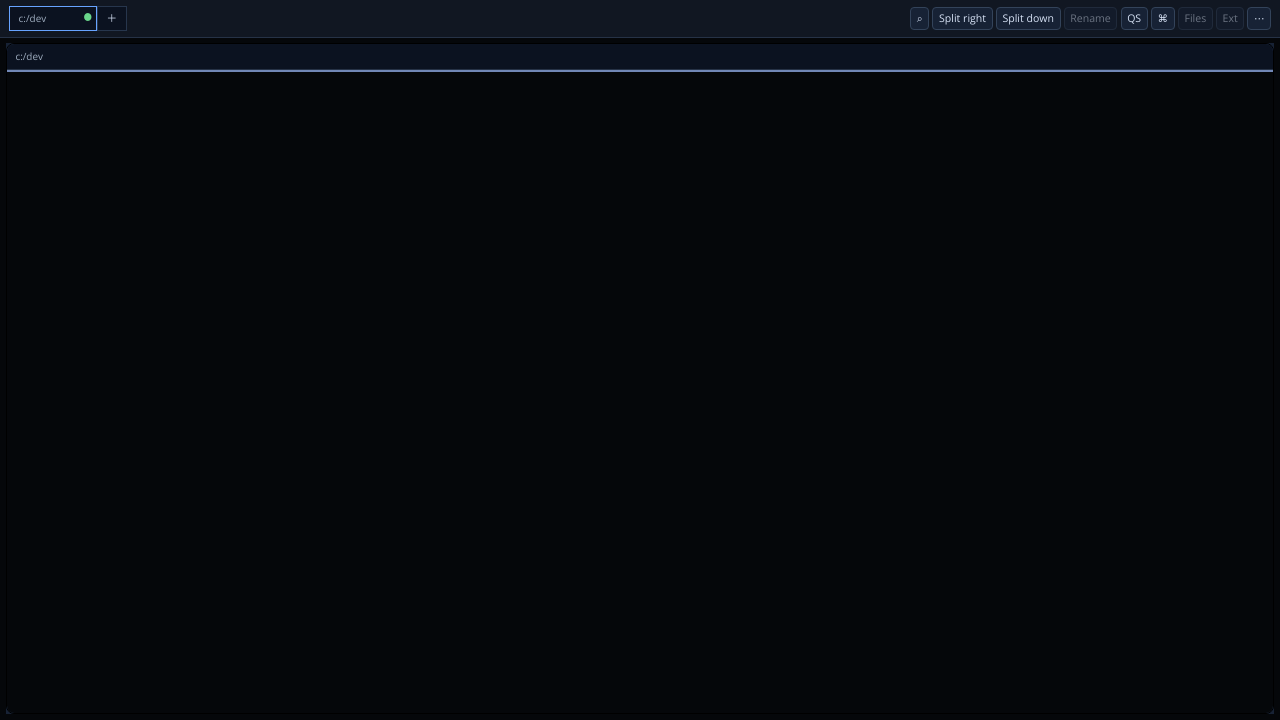
Test: persistent terminal terminal-state notices › keeps Restart replacement live after stale Stop confirmed settlement
Click the button named "Open terminal actions menu".
click(1259, 18)  # box x1=1248 y1=7 x2=1271 y2=30
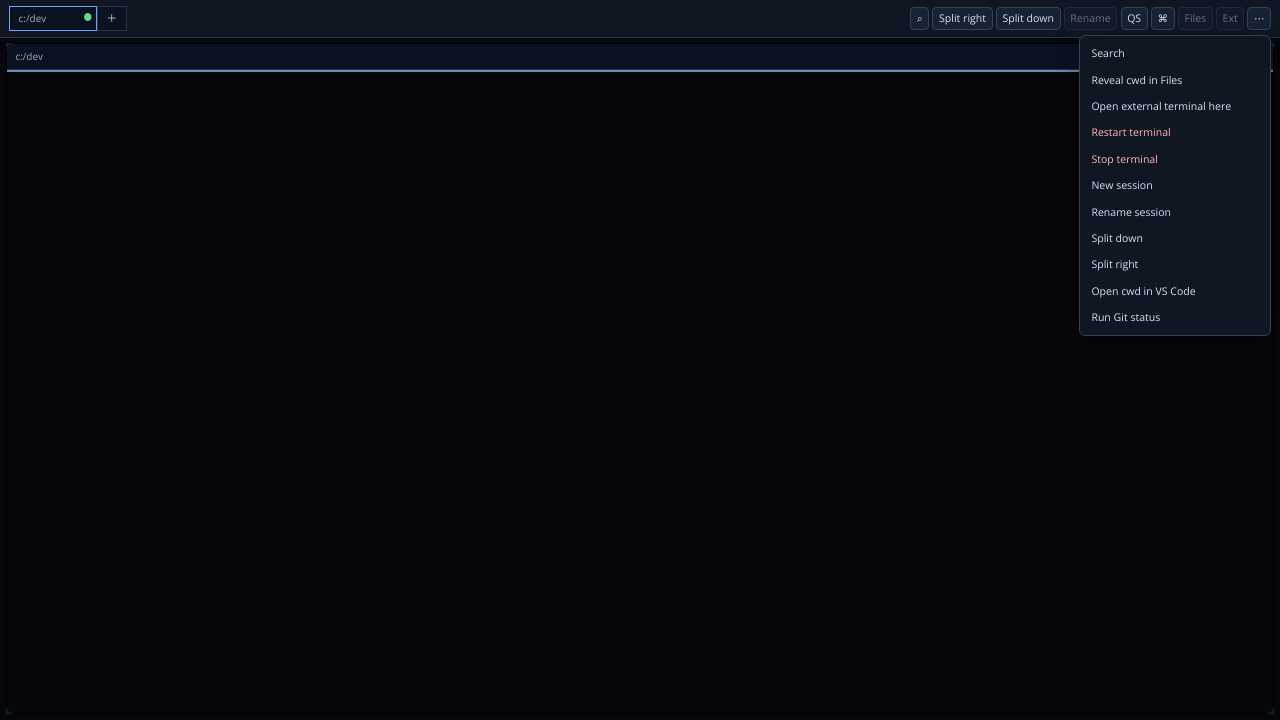
Click the menu item "Stop terminal".
click(1175, 159)  # box x1=1086 y1=148 x2=1265 y2=171
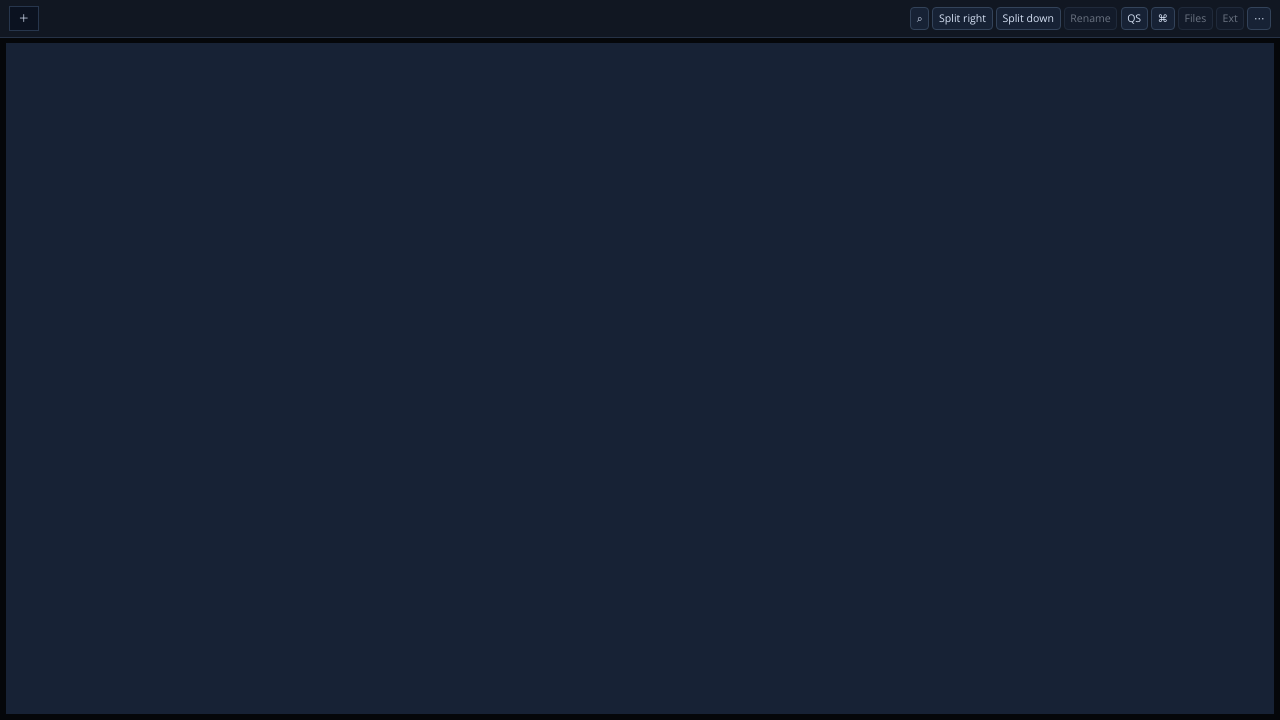
Result: no tabs are shown
Click the button named "Open terminal actions menu".
click(1259, 18)  # box x1=1248 y1=7 x2=1271 y2=30
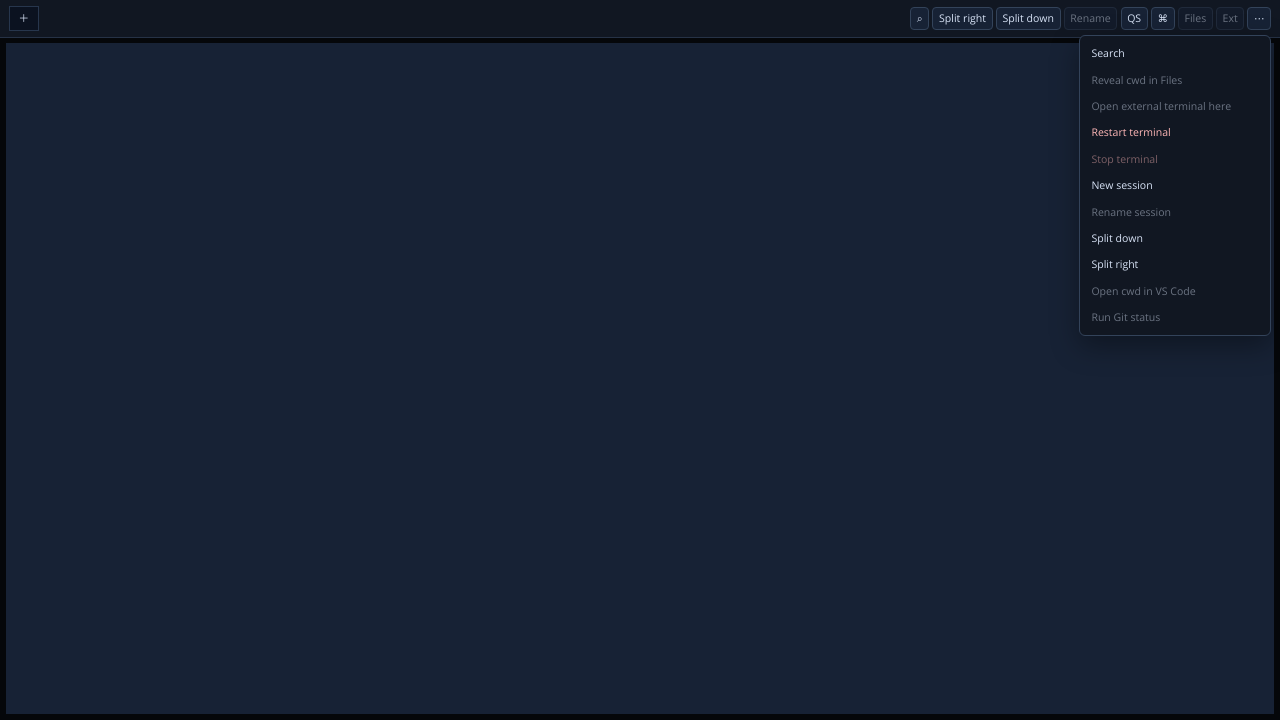
Click the menu item "Restart terminal".
click(1175, 133)  # box x1=1086 y1=121 x2=1265 y2=144
Wait 1201 ms
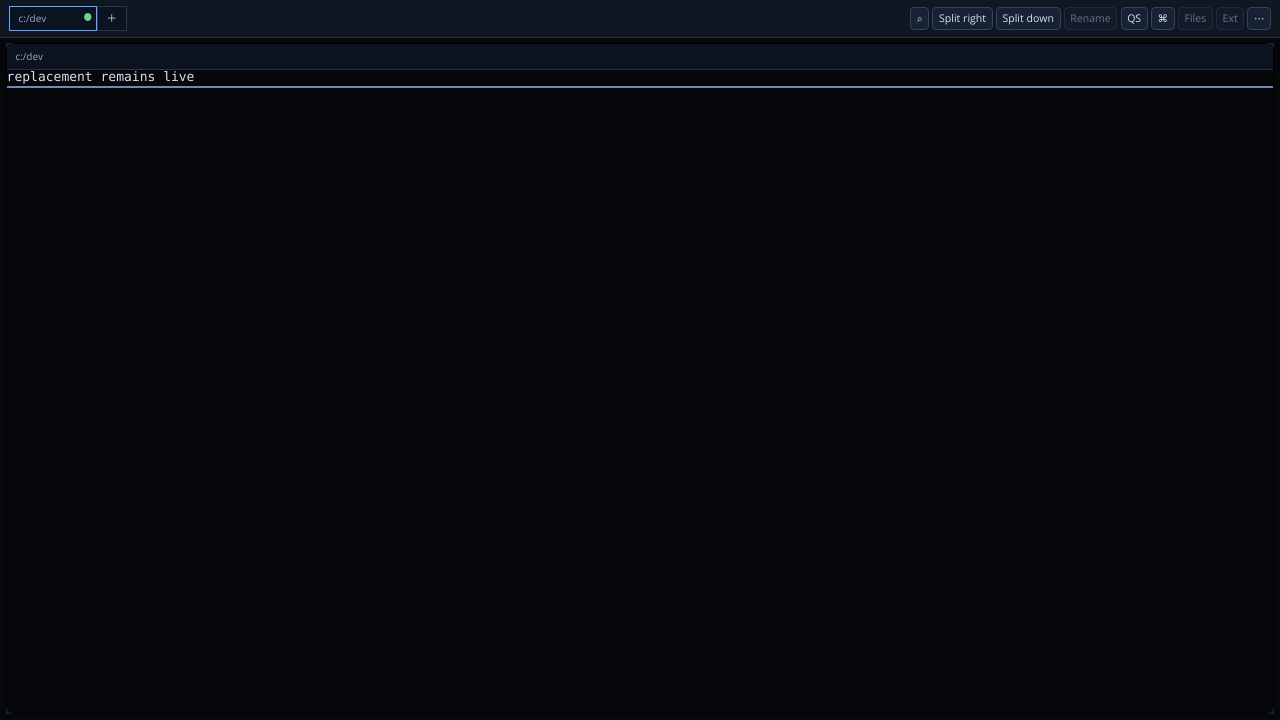
Result: the text "replacement remains live" is shown at x1=7 y1=70 x2=1273 y2=86
Result: the number of tabs is 1 at x1=10 y1=8 x2=80 y2=29
Result: the element showing "replacement remains live" is shown
